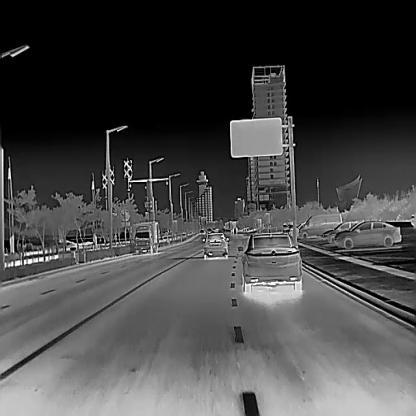car: (238, 231, 303, 291), (334, 220, 401, 247), (299, 212, 342, 236), (134, 220, 158, 254), (322, 221, 359, 241), (202, 232, 229, 258)
